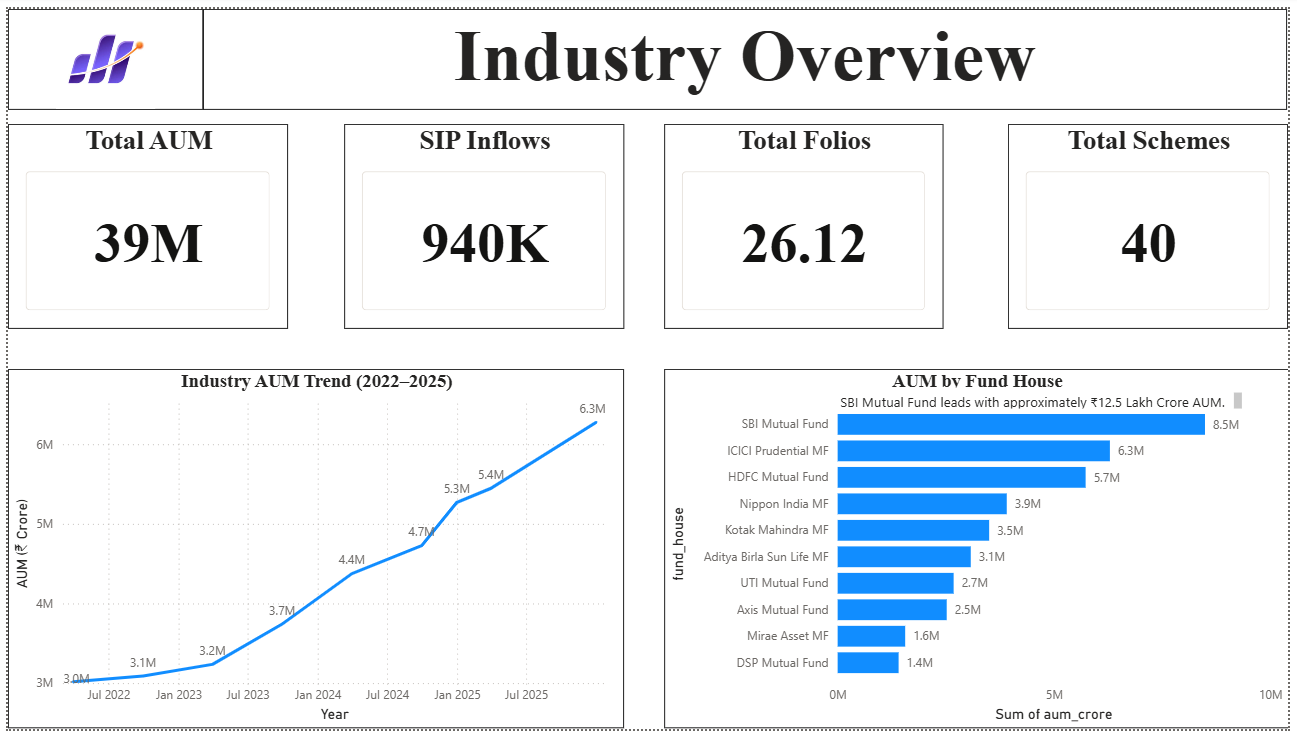

Layout of this report page (visuals, bound fields, positions):
{"tool":"powerbi","page":{"name":"Industry Overview","canvas":[1280,720],"ordinal":0},"visuals":[{"type":"cardVisual","title":"Total AUM","fields":{"Data":["Sum(03_aum_by_fund_house_clean.aum_crore)"]},"box":[0,115.1,280.2,204.7],"z":0},{"type":"cardVisual","title":"Total Folios","fields":{"Data":["Max(06_industry_folio_count_clean.total_folios_crore)"]},"box":[655.8,115.1,279.1,204.7],"z":1000},{"type":"cardVisual","title":"SIP Inflows","fields":{"Data":["Sum(04_monthly_sip_inflows_clean.sip_inflow_crore)"]},"box":[336,115.1,280.2,204.7],"z":2000},{"type":"cardVisual","title":"Total Schemes","fields":{"Data":["CountNonNull(01_fund_master_clean.scheme_name)"]},"box":[1000,115.1,280.2,204.7],"z":3000},{"type":"lineChart","title":"Industry AUM Trend (2022–2025)","fields":{"Y":["Sum(03_aum_by_fund_house_clean.aum_crore)"],"Category":["03_aum_by_fund_house_clean.date"]},"box":[0,360.5,616.3,359.3],"z":4000},{"type":"clusteredBarChart","title":"AUM by Fund House","fields":{"Category":["03_aum_by_fund_house_clean.fund_house"],"Y":["Sum(03_aum_by_fund_house_clean.aum_crore)"]},"box":[655.8,360.5,624.4,359.3],"z":5000},{"type":"textbox","box":[827.9,379.1,411.6,25.6],"z":6000},{"type":"textbox","box":[195.6,0,1084.3,100.6],"z":7000},{"type":"image","box":[0,0,195.3,101.2],"z":7001}]}

Visuals, with their boxes in screenshot pixels (x1, y1, x2, y2), scaled from the page's 1280x720 canvas onto the 1297x735 screenshot:
"Total AUM" cardVisual: region(0, 117, 284, 326)
"Total Folios" cardVisual: region(665, 117, 947, 326)
"SIP Inflows" cardVisual: region(340, 117, 624, 326)
"Total Schemes" cardVisual: region(1013, 117, 1296, 326)
"Industry AUM Trend (2022–2025)" lineChart: region(0, 368, 624, 734)
"AUM by Fund House" clusteredBarChart: region(665, 368, 1296, 734)
textbox: region(839, 387, 1256, 413)
textbox: region(198, 0, 1296, 103)
image: region(0, 0, 198, 103)
